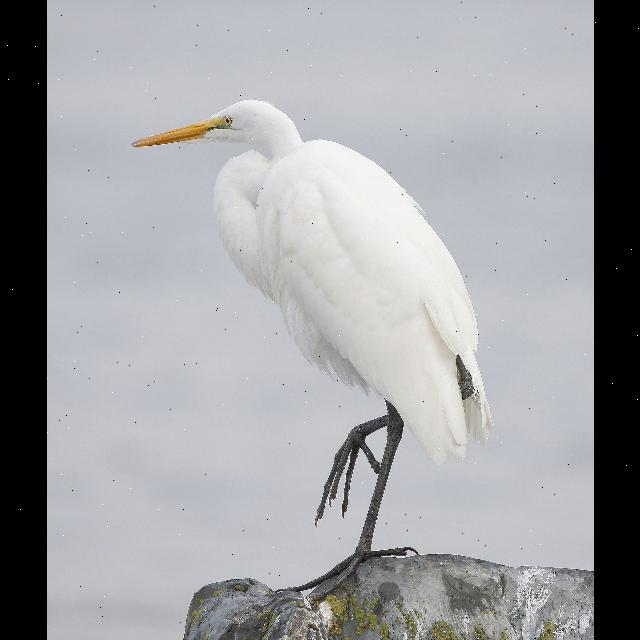egret: (120, 76, 493, 584)
